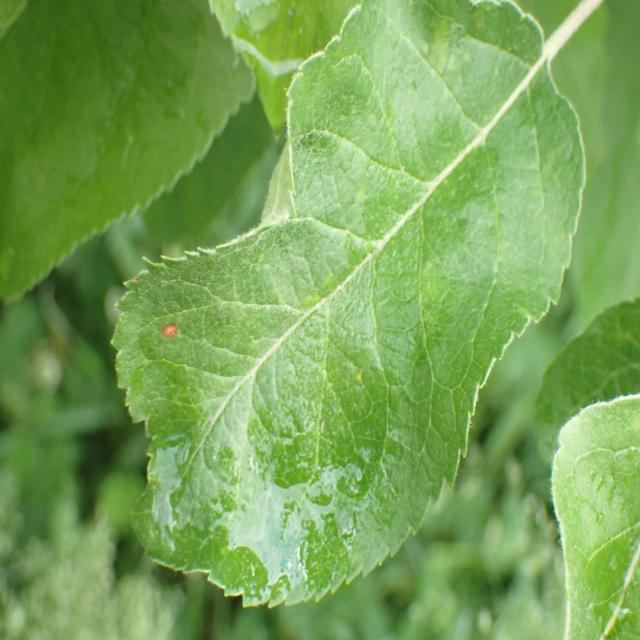Black Rot: (157, 310, 189, 364)
